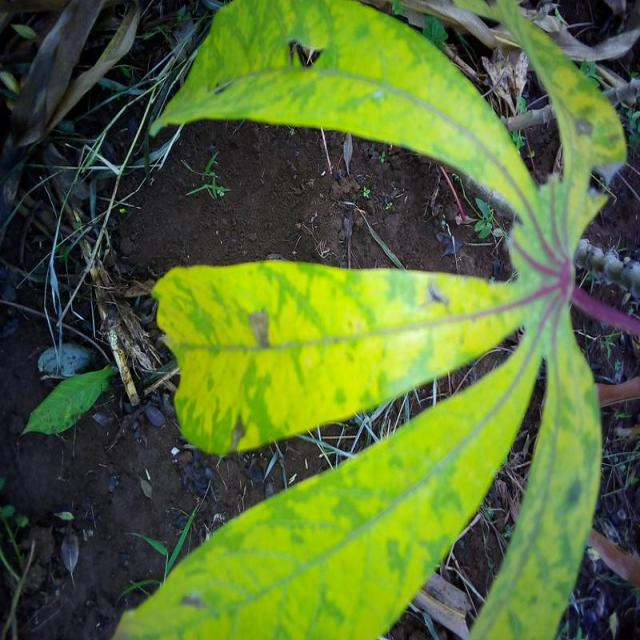cassava leaf: (110, 0, 633, 638), (148, 0, 542, 225), (150, 257, 523, 456)
